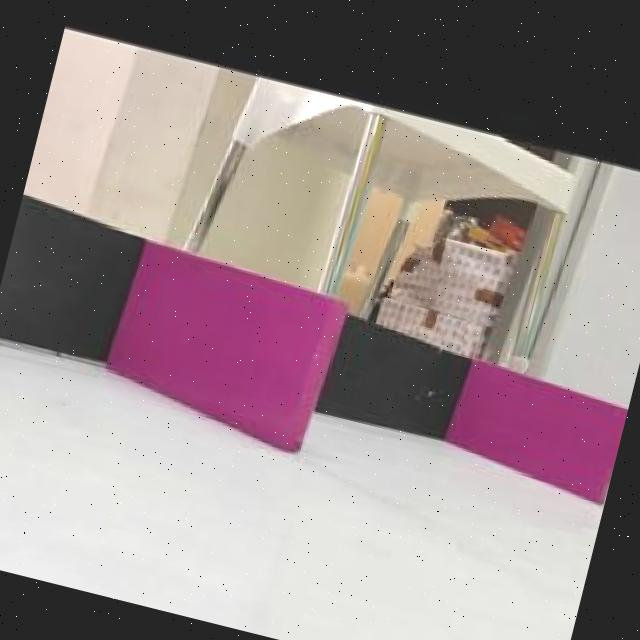xparking: (113, 254, 332, 442), (461, 370, 628, 492)
